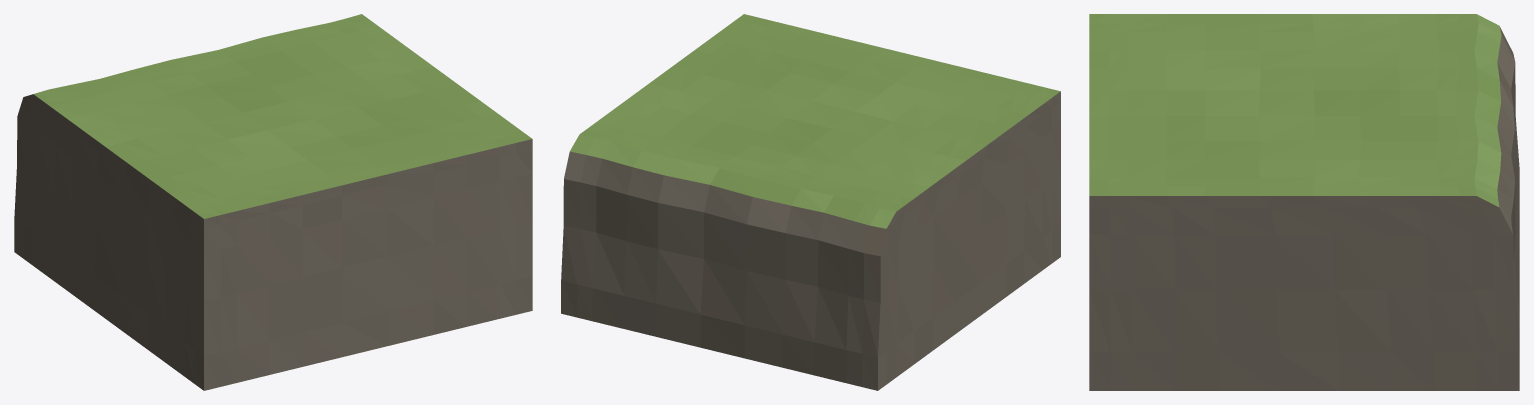
File: grass_edge.glb
The picture shows the model from 3 angles, left to right: view 1: azimuth 30°, elevation 25°; view 2: azimuth 150°, elevation 25°; view 3: azimuth 270°, elevation 25°; orthographic projection. The views are drawn at different scales.
Parts seen in each view (by area): view 1: grass_edge; view 2: grass_edge; view 3: grass_edge.
Part boxes in pixels (x1,y1,x2,y2): grass_edge: (14,14,532,390); grass_edge: (561,14,1060,390); grass_edge: (1089,14,1519,390).
Bounding box in the file's own units: 1 × 0.5 × 1.
